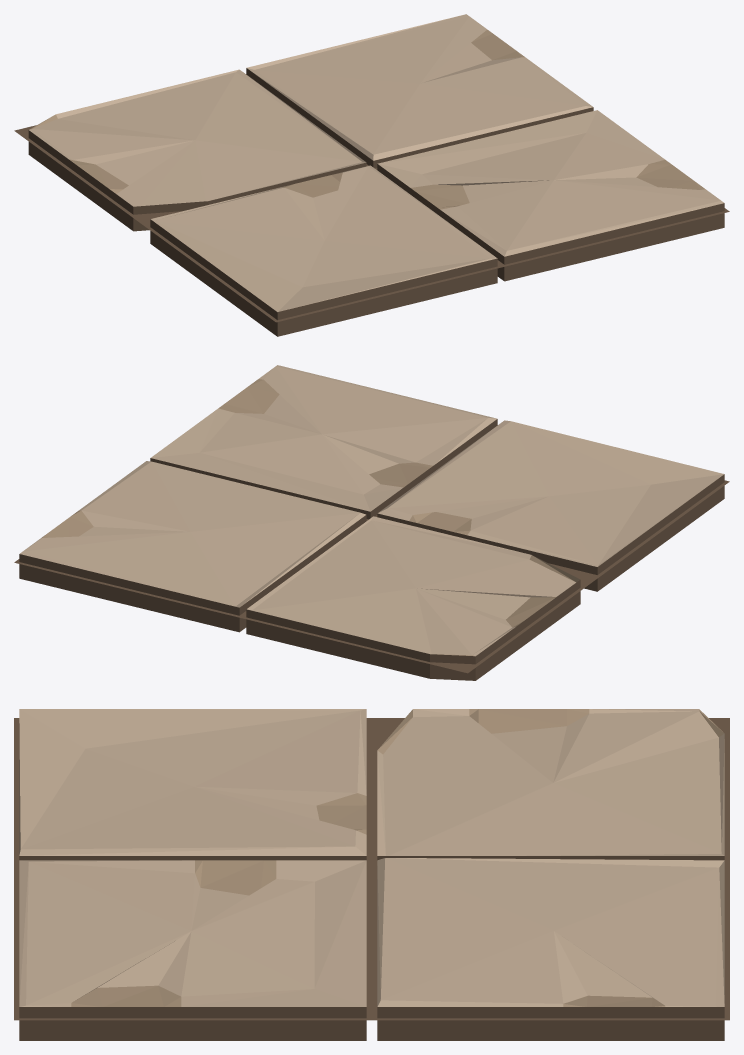
Rendered from SM_Ground_PavingTile_Rough_06.fbx.
3 renders of one model, top to bottom at view 1: azimuth 30°, elevation 25°; view 2: azimuth 150°, elevation 25°; view 3: azimuth 270°, elevation 25°, orthographic. The views are drawn at different scales.
Parts seen in each view (by area): view 1: SM_Ground_PavingTile_Rough_06; view 2: SM_Ground_PavingTile_Rough_06; view 3: SM_Ground_PavingTile_Rough_06.
Part boxes in pixels (<box>): SM_Ground_PavingTile_Rough_06: <box>14,14,729,336</box>; SM_Ground_PavingTile_Rough_06: <box>14,365,729,680</box>; SM_Ground_PavingTile_Rough_06: <box>14,709,729,1040</box>.
Size of the model in its own units: 1 by 0.0599 by 1.
Materials: 1 (1 with a texture image).
